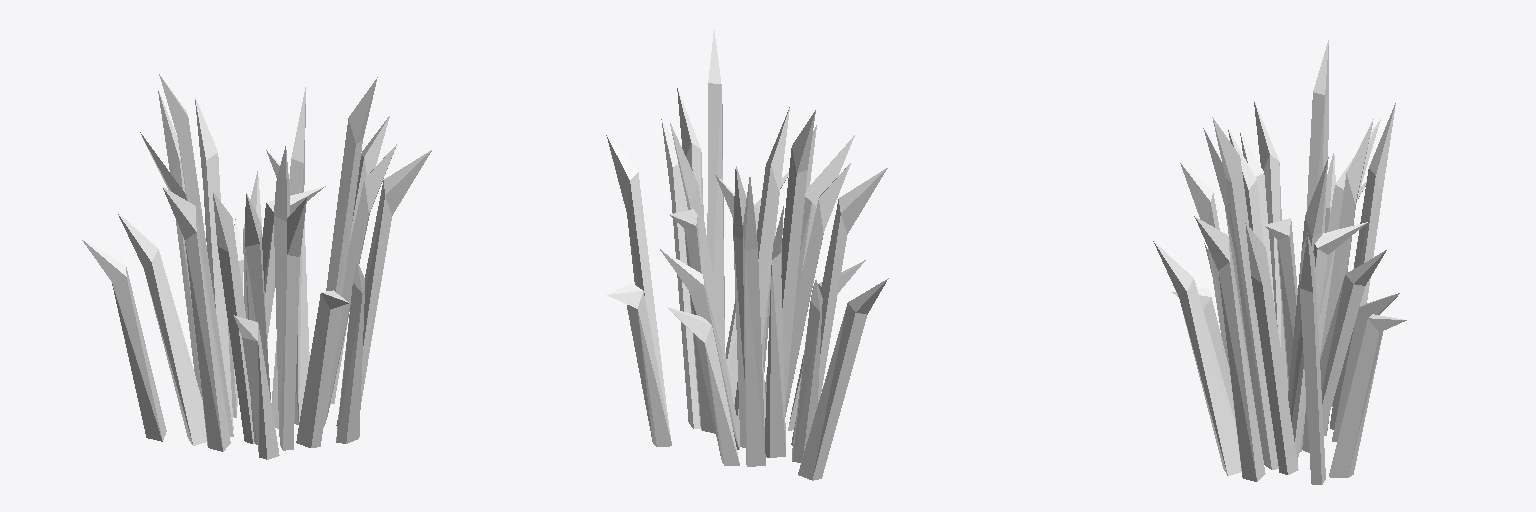
The model's file is Brick.obj.
3 renders of one model, left to right at view 1: azimuth 30°, elevation 25°; view 2: azimuth 150°, elevation 25°; view 3: azimuth 270°, elevation 25°, orthographic.
Parts seen in each view (by area): view 1: SM_Env_RicePlant_02_Mesh; view 2: SM_Env_RicePlant_02_Mesh; view 3: SM_Env_RicePlant_02_Mesh.
Boxes of the visible parts, x1=… form: SM_Env_RicePlant_02_Mesh: x1=82, y1=74, x2=431, y2=459; SM_Env_RicePlant_02_Mesh: x1=606, y1=30, x2=888, y2=480; SM_Env_RicePlant_02_Mesh: x1=1153, y1=40, x2=1406, y2=484.
Bounding box in the file's own units: 2.48 × 2.92 × 1.84.